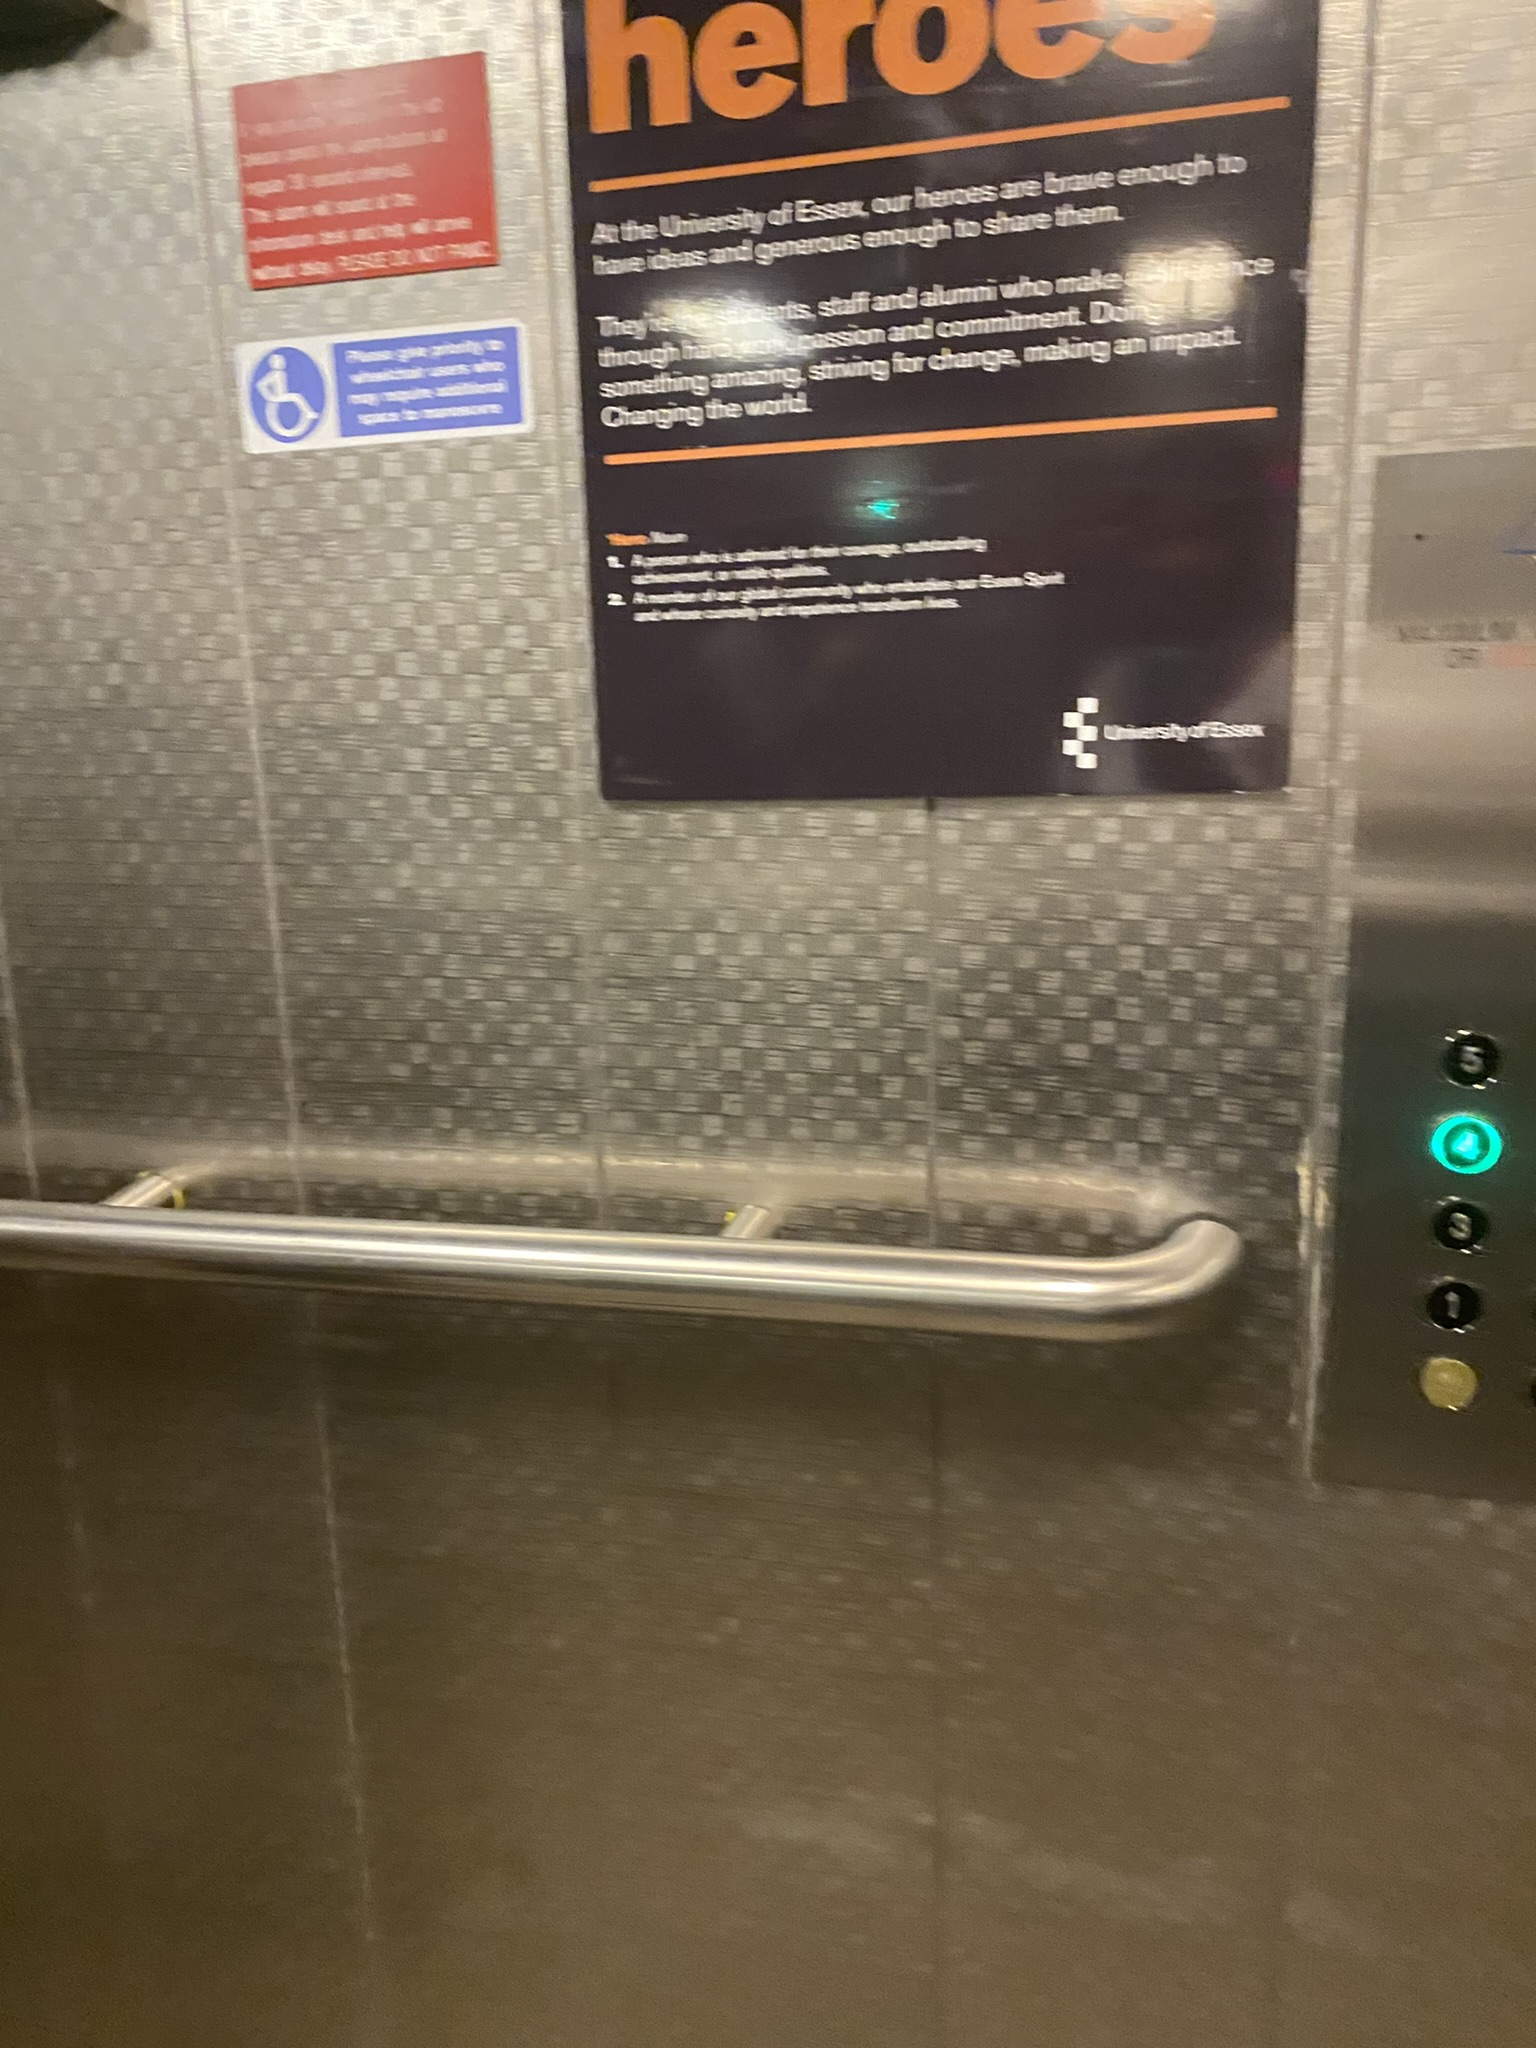buttons: (1346, 1027, 1536, 1218)
